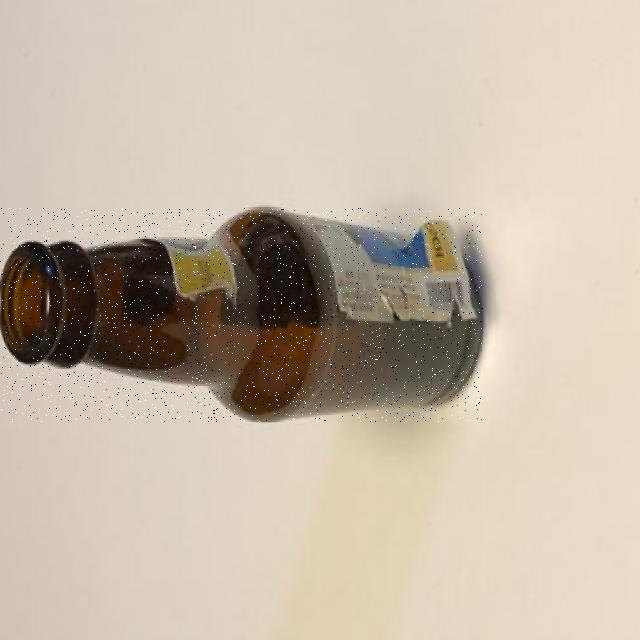glass: (0, 208, 483, 421)
paper: (310, 218, 479, 324)
